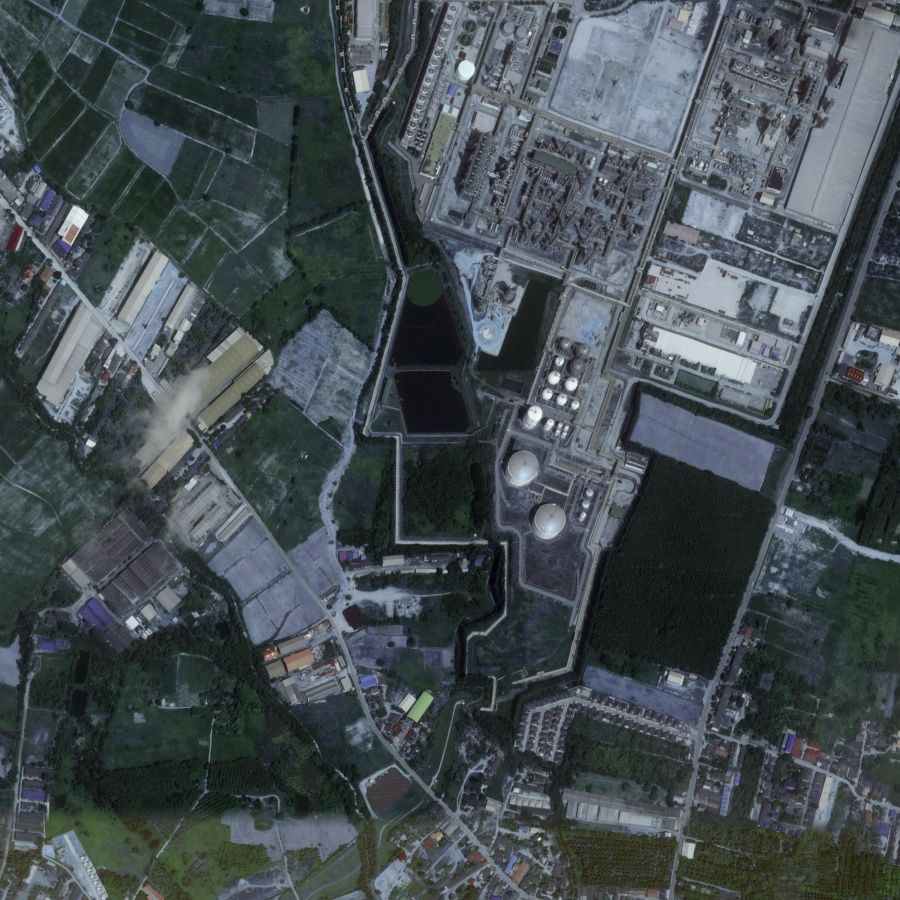PowerPlant: (416, 93, 667, 552)
